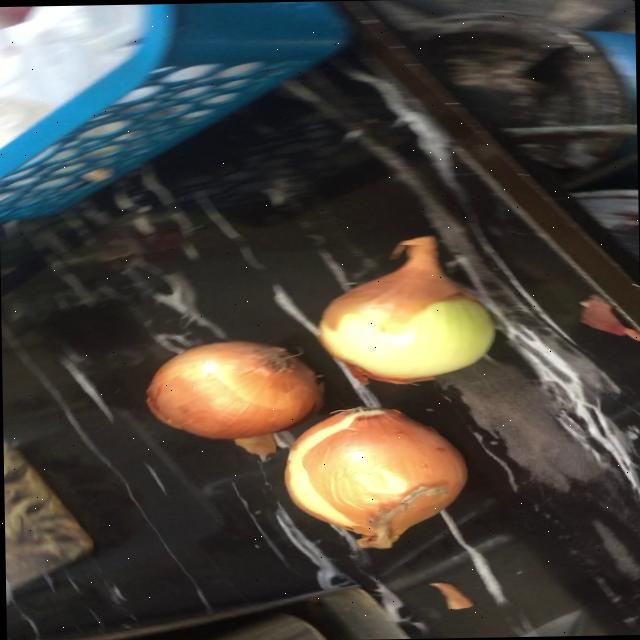Onion: (284, 407, 467, 548), (319, 235, 494, 382), (146, 340, 322, 438)
